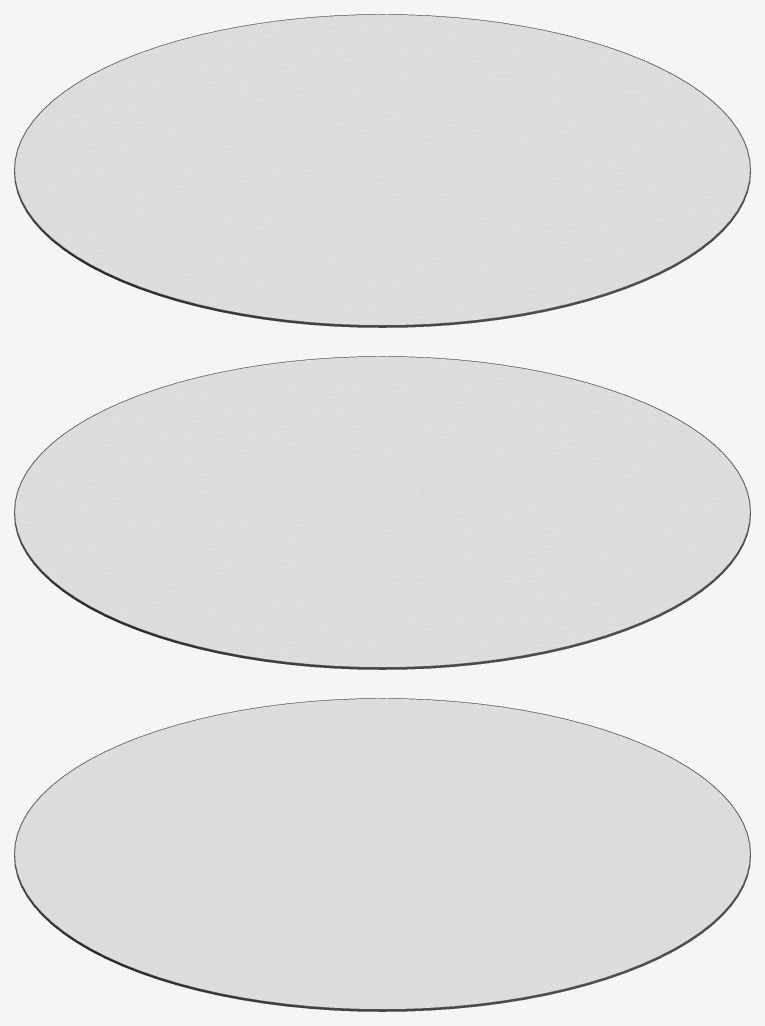
Rendered from MOb_Rug_001_32x32.fbx.
The picture shows the model from 3 angles, top to bottom: view 1: azimuth 30°, elevation 25°; view 2: azimuth 150°, elevation 25°; view 3: azimuth 270°, elevation 25°; orthographic projection.
Visible parts, largest first — view 1: MOb_Rug_001_32x32; view 2: MOb_Rug_001_32x32; view 3: MOb_Rug_001_32x32.
Part boxes in pixels (x1=…): MOb_Rug_001_32x32: x1=14, y1=14, x2=750, y2=327; MOb_Rug_001_32x32: x1=14, y1=356, x2=750, y2=669; MOb_Rug_001_32x32: x1=14, y1=698, x2=750, y2=1011.
Size of the model in its own units: 32 by 0.11 by 32.
